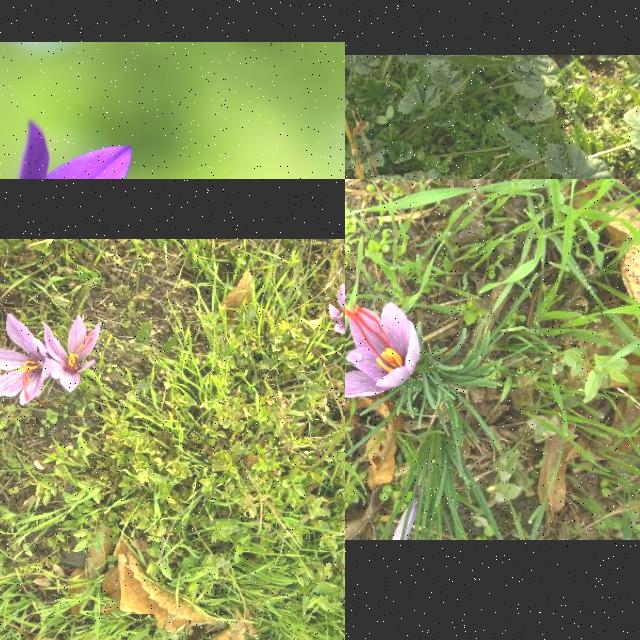flower: (345, 302, 421, 398), (0, 313, 51, 405), (43, 316, 103, 392)
overlap: (328, 276, 345, 362)
